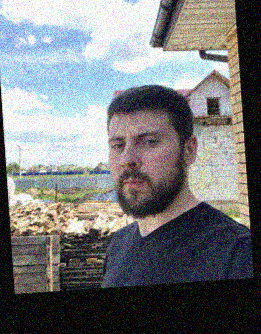without_mask: (109, 123, 176, 219)
